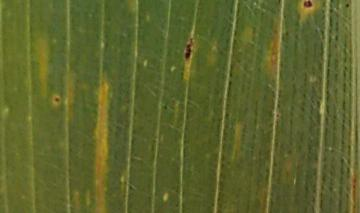tarspot: (184, 37, 193, 61), (303, 1, 313, 8), (53, 96, 62, 103), (163, 103, 169, 111), (345, 3, 351, 9)
